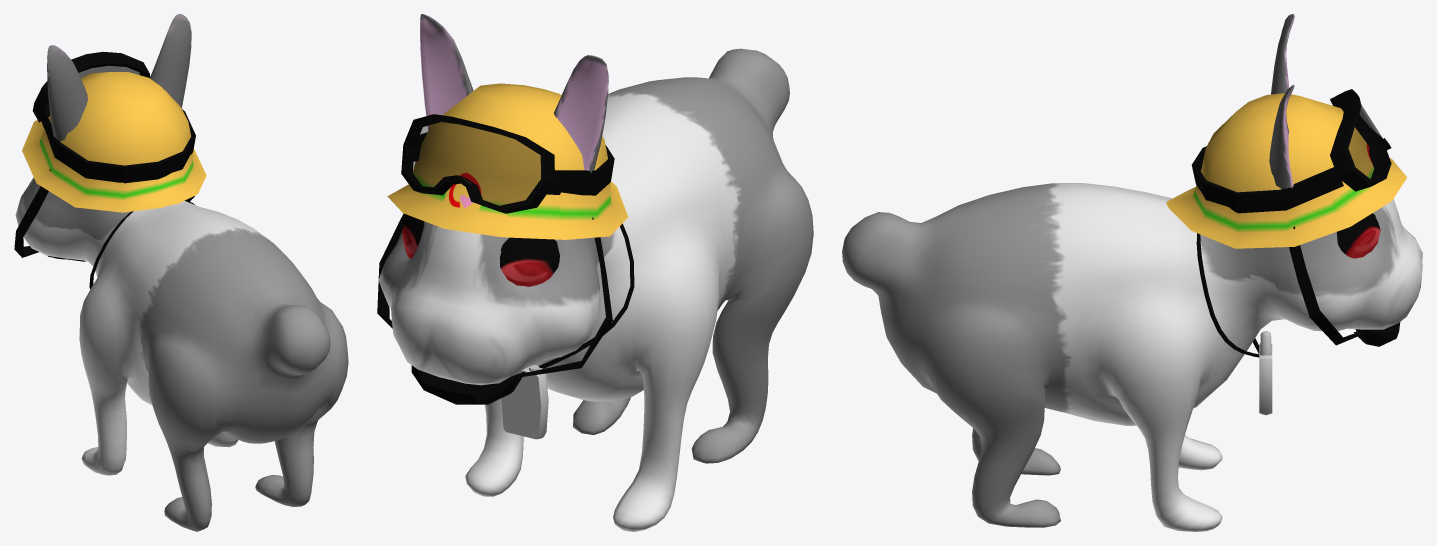
The model's file is Rescue Rabbit.fbx.
The picture shows the model from 3 angles, left to right: view 1: azimuth 30°, elevation 25°; view 2: azimuth 150°, elevation 25°; view 3: azimuth 270°, elevation 25°; orthographic projection. The views are drawn at different scales.
Parts seen in each view (by area): view 1: Rabbit, Box32; view 2: Rabbit, Box32, Box033, Line001; view 3: Rabbit, Box32, Box033, Line001.
Boxes of the visible parts, x1,y1,x2,y2 form: Rabbit: [15, 14, 348, 531]; Box32: [14, 51, 206, 261]; Rabbit: [378, 14, 813, 531]; Box32: [377, 83, 628, 404]; Box033: [501, 365, 548, 439]; Line001: [539, 223, 634, 368]; Rabbit: [842, 14, 1422, 531]; Box32: [1166, 89, 1406, 346]; Box033: [1259, 331, 1272, 415]; Line001: [1196, 233, 1259, 357].
Size of the model in its own units: 0.5416 by 1.12 by 1.32.
